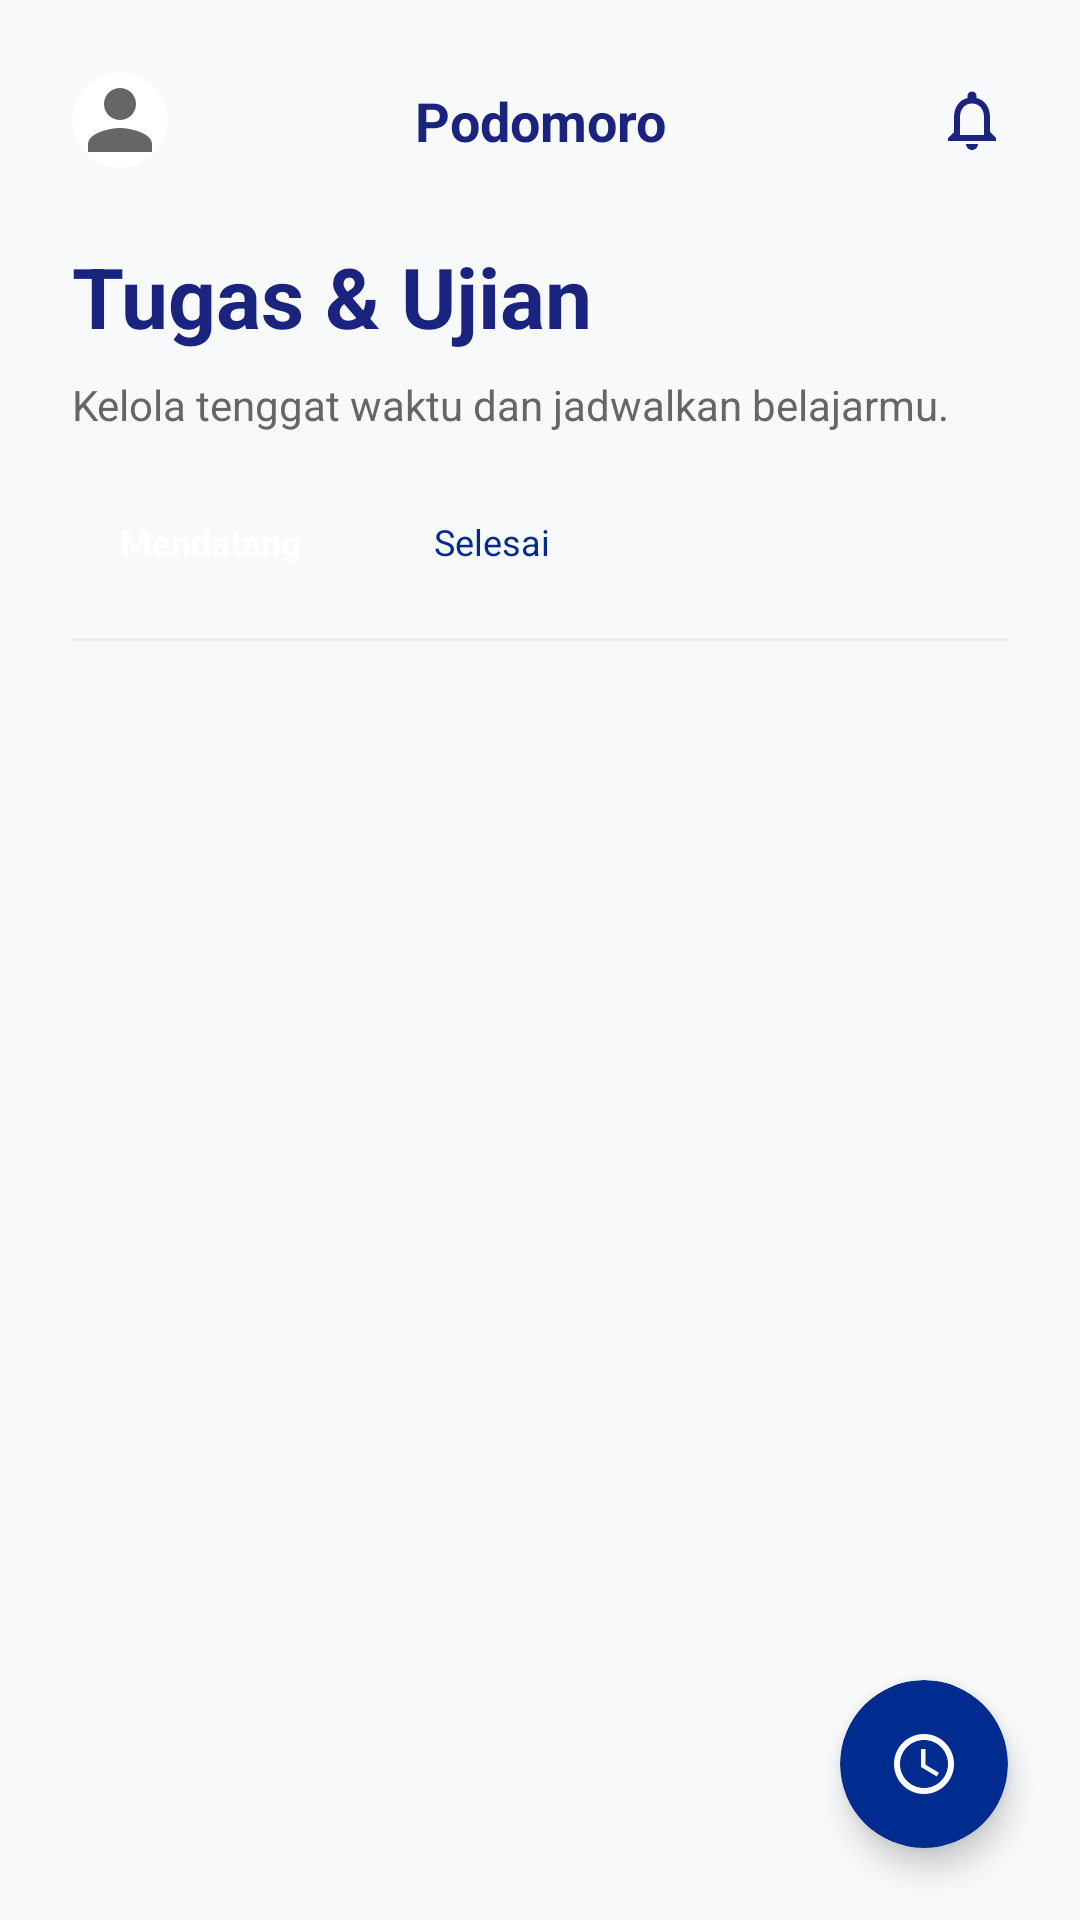

Point at icon controls on the screen. Image size 1080px x 1920px, points as (x,y).
clock: (924,1764)
notification: (972,120)
person: (120,120)
